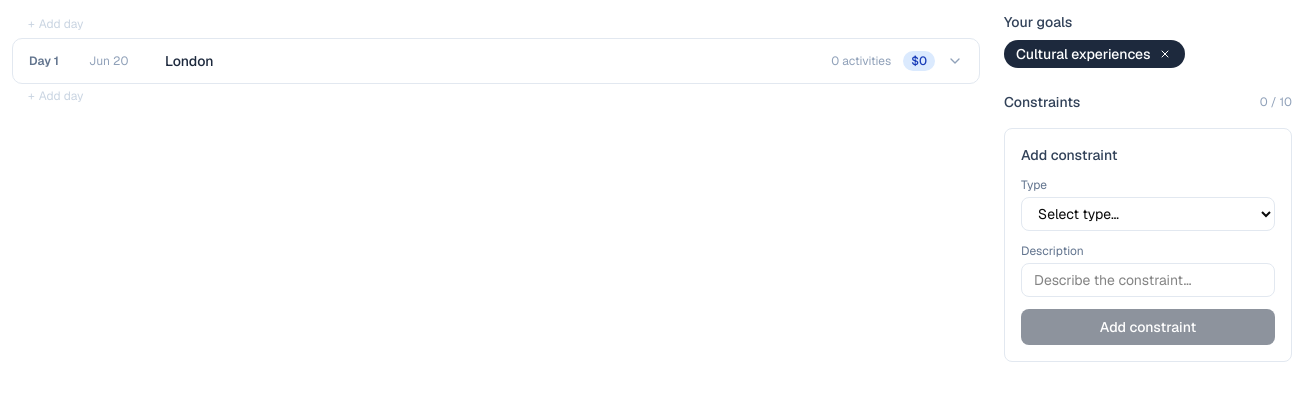
it: goalError — exact message text › shows the exact error string when remove fails
Expected: the text "Cultural experiences" is shown, [1004,40,1185,68]
Click the button named "remove cultural experiences": {"x": 1165, "y": 54} [1157,46,1173,62]
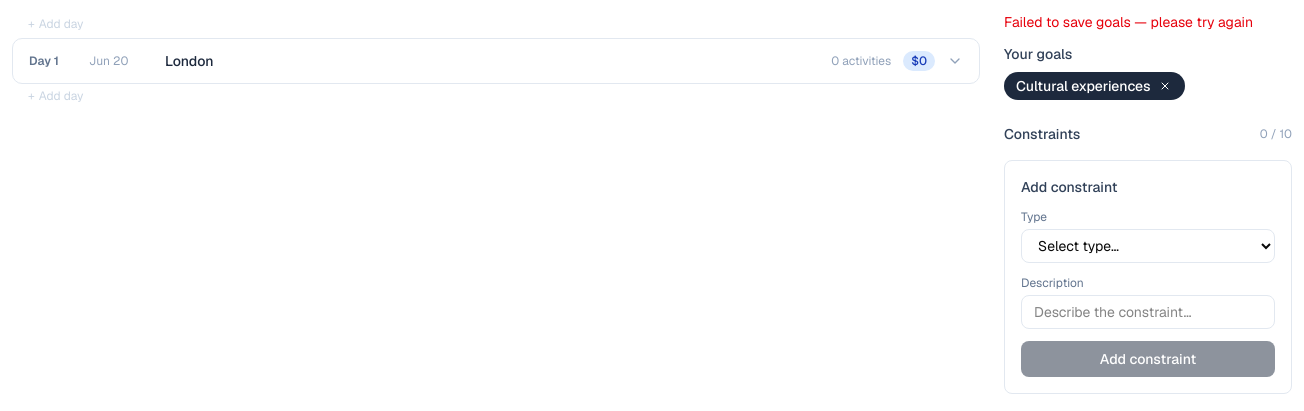
Result: the text "Failed to save goals — please try again" is shown at [1004,12,1292,32]
